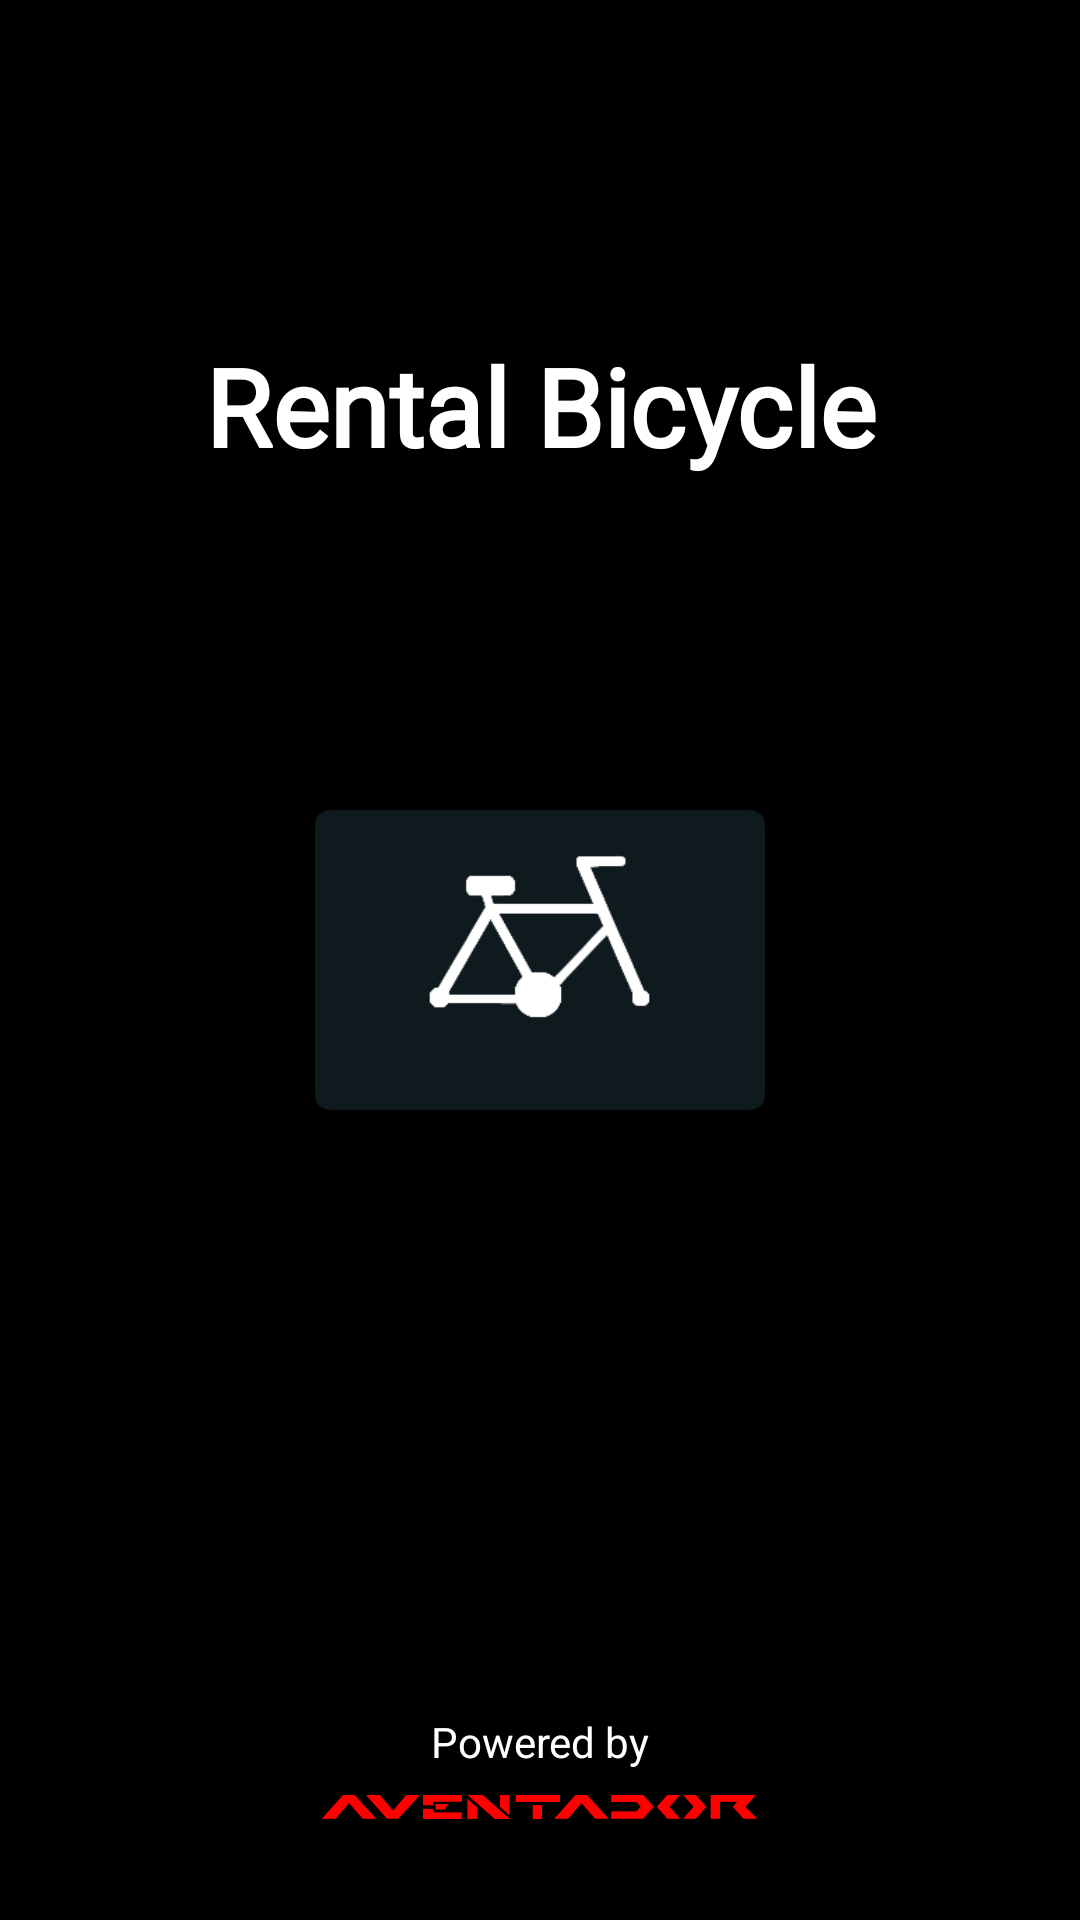

Where icons sit on this 1080 x 1920 app screen, as (x1=x1, y1=y1, x2=x2, y2=y2):
bicycle: (x1=429, y1=856, x2=650, y2=1018)
